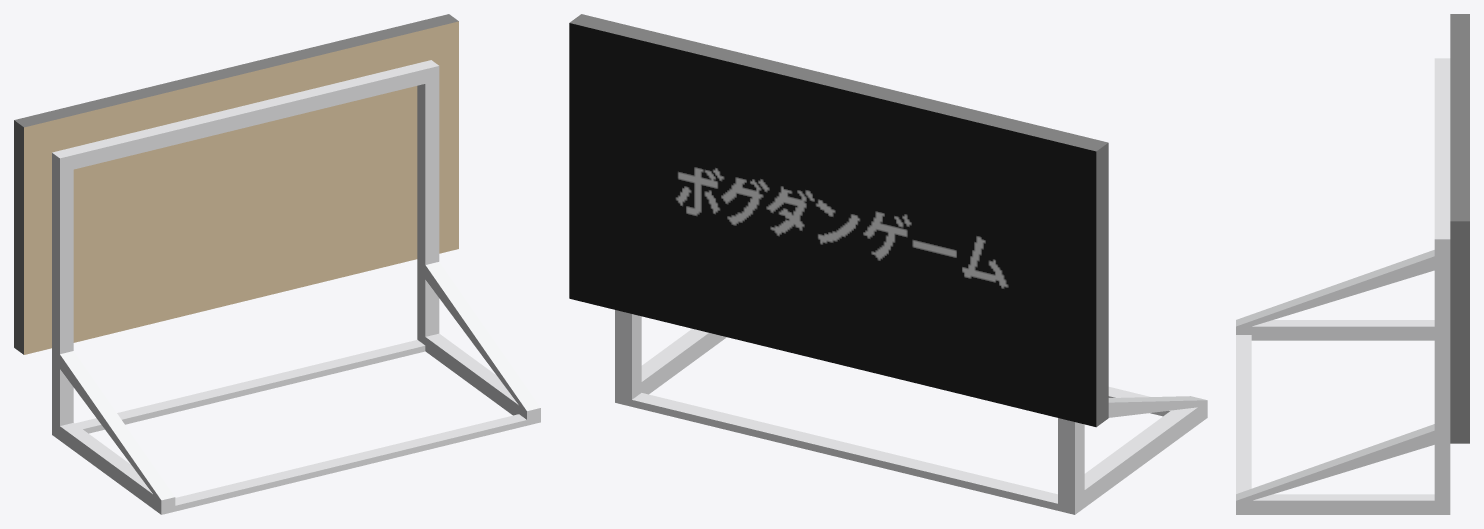
Rendered from BilboardSmall.fbx.
The picture shows the model from 3 angles, left to right: view 1: azimuth 30°, elevation 25°; view 2: azimuth 150°, elevation 25°; view 3: azimuth 270°, elevation 25°; orthographic projection. The views are drawn at different scales.
Visible parts, largest first — view 1: billboardLow; view 2: billboardLow; view 3: billboardLow.
Part boxes in pixels (bbox=[...]): billboardLow: bbox=[14, 14, 540, 514]; billboardLow: bbox=[569, 14, 1207, 514]; billboardLow: bbox=[1236, 14, 1469, 514].
Bounding box in the file's own units: 1000 × 690 × 476.
4 materials, 1 textured.
